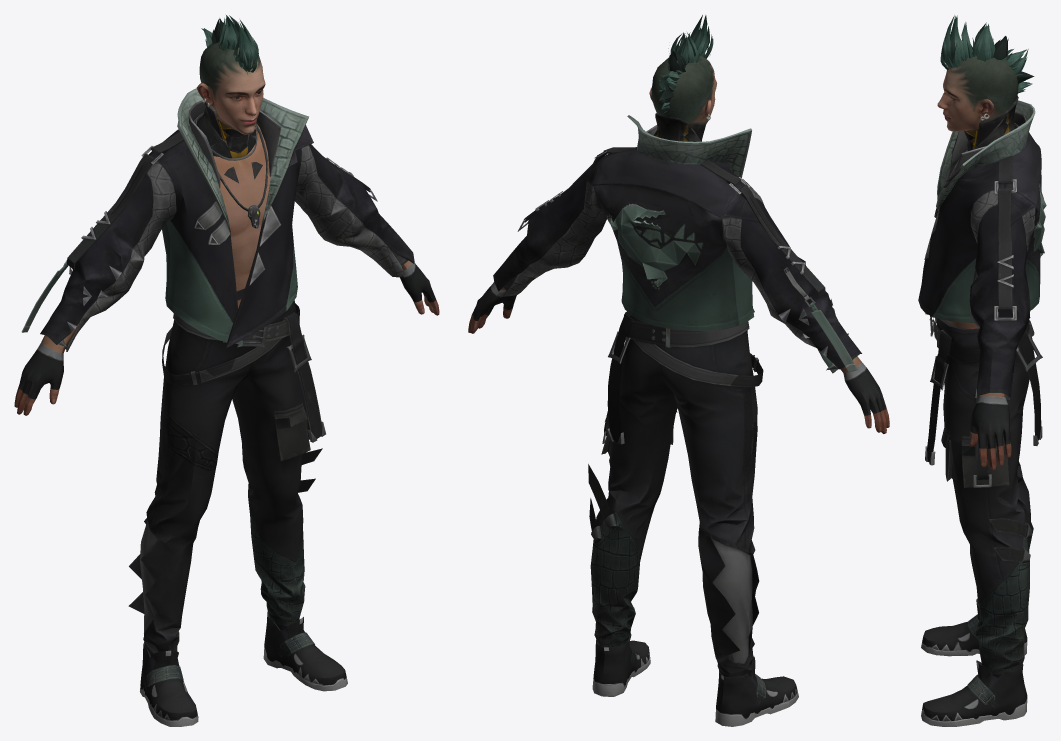
The model's file is crocdarer.fbx.
The picture shows the model from 3 angles, left to right: view 1: azimuth 30°, elevation 25°; view 2: azimuth 150°, elevation 25°; view 3: azimuth 270°, elevation 25°; orthographic projection.
Visible parts, largest first — view 1: Object_3, Object_2, Object_5, Object_4, Object_6; view 2: Object_3, Object_2, Object_4, Object_5, Object_6; view 3: Object_3, Object_2, Object_4, Object_5, Object_6.
Part boxes in pixels (x1,y1,x2,y2): Object_3: (18, 88, 436, 399); Object_2: (128, 300, 325, 656); Object_5: (14, 41, 439, 415); Object_4: (140, 98, 347, 726); Object_6: (201, 15, 258, 74); Object_3: (472, 113, 886, 415); Object_2: (588, 311, 763, 677); Object_4: (592, 114, 798, 726); Object_5: (468, 53, 889, 433); Object_6: (659, 15, 713, 112); Object_3: (918, 95, 1046, 448); Object_2: (925, 316, 1042, 678); Object_4: (921, 113, 1027, 726); Object_5: (937, 50, 1018, 469); Object_6: (940, 15, 1034, 93).
Bounding box in the file's own units: 58.73 × 90.98 × 15.9.
5 materials, 5 textured.
